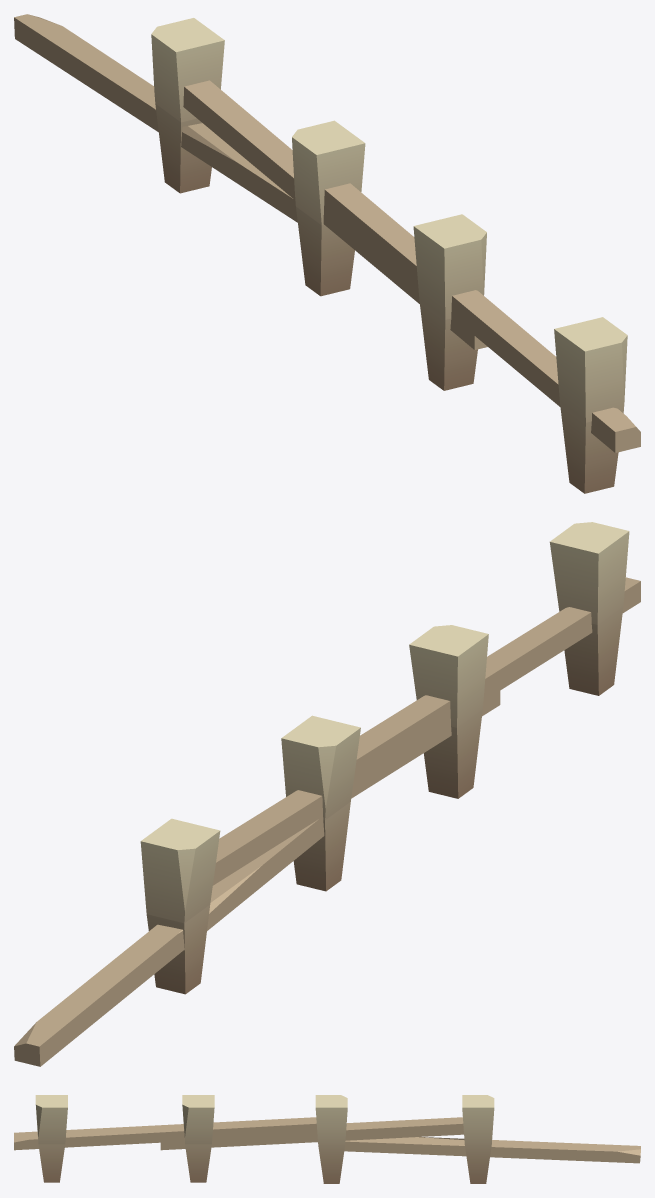
File: Fences_White.fbx
3 renders of one model, top to bottom at view 1: azimuth 30°, elevation 25°; view 2: azimuth 150°, elevation 25°; view 3: azimuth 270°, elevation 25°, orthographic. The views are drawn at different scales.
Parts seen in each view (by area): view 1: Fence_1_White, Fence_2_White; view 2: Fence_1_White, Fence_2_White; view 3: Fence_1_White, Fence_2_White.
Boxes of the visible parts, x1,y1,x2,y2 form: Fence_1_White: (14,14,640,493); Fence_2_White: (151,18,487,390); Fence_1_White: (14,522,640,1066); Fence_2_White: (140,625,500,994); Fence_1_White: (14,1095,640,1183); Fence_2_White: (160,1095,494,1183).
Size of the model in its own units: 14.07 by 41.26 by 300.
